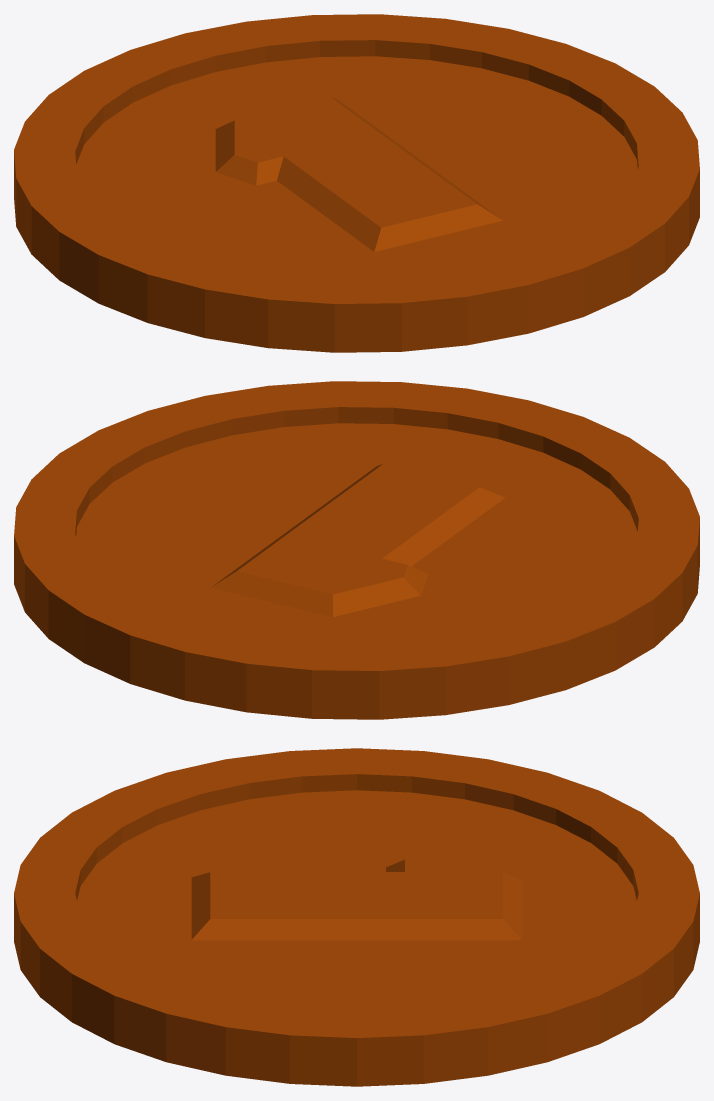
File: goldCoin.obj
3 renders of one model, top to bottom at view 1: azimuth 30°, elevation 25°; view 2: azimuth 150°, elevation 25°; view 3: azimuth 270°, elevation 25°, orthographic.
Visible parts, largest first — view 1: coin.001_Circle.001; view 2: coin.001_Circle.001; view 3: coin.001_Circle.001.
Part boxes in pixels (x1,y1,x2,y2): coin.001_Circle.001: (14,14,699,352); coin.001_Circle.001: (14,381,699,719); coin.001_Circle.001: (14,748,699,1086).
Bounding box in the file's own units: 2 × 0.1563 × 2.
